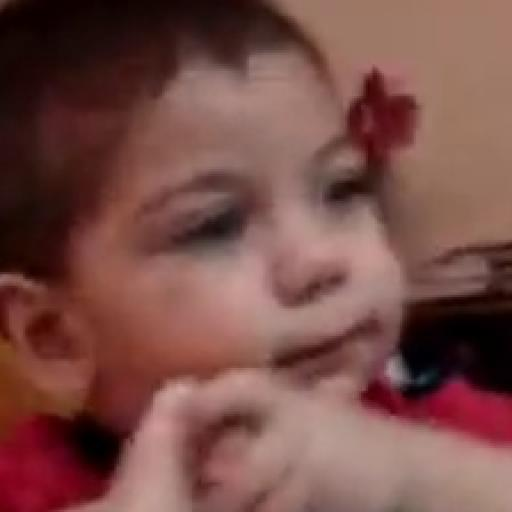Autism: (25, 34, 512, 512)
